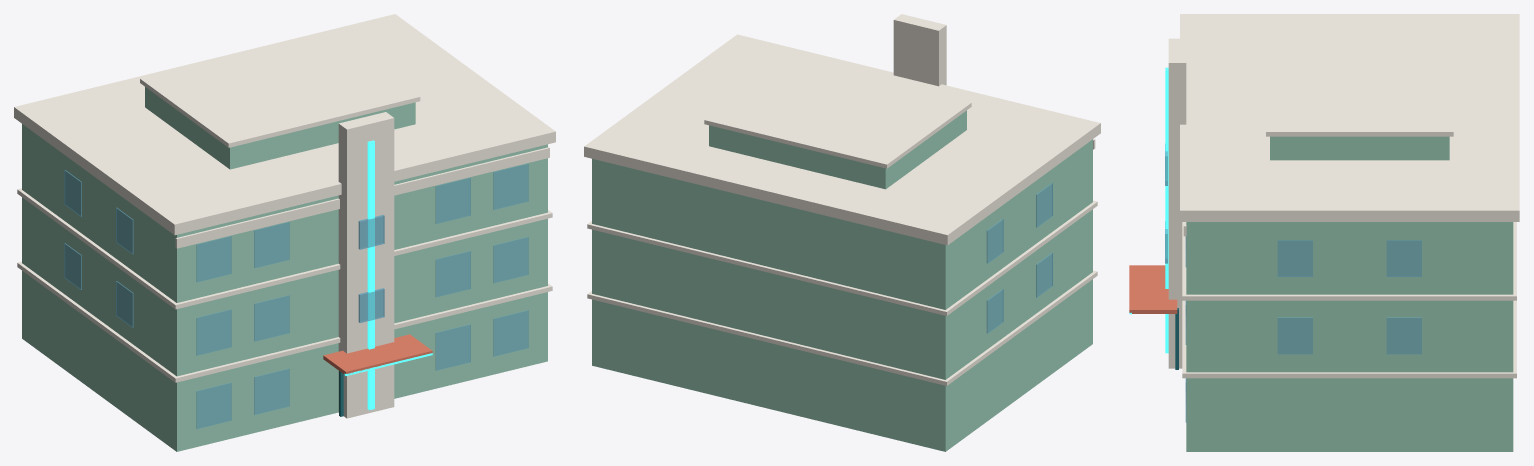
File: lod_deco_hotel_a.glb
3 renders of one model, left to right at view 1: azimuth 30°, elevation 25°; view 2: azimuth 150°, elevation 25°; view 3: azimuth 270°, elevation 25°, orthographic. The views are drawn at different scales.
Visible parts, largest first — view 1: lod_deco_hotel_a; view 2: lod_deco_hotel_a; view 3: lod_deco_hotel_a.
Part boxes in pixels (x1,y1,x2,y2): lod_deco_hotel_a: (14,14,555,451); lod_deco_hotel_a: (584,14,1100,451); lod_deco_hotel_a: (1129,14,1519,451).
Bounding box in the file's own units: 18.5 × 13.4 × 15.51.
